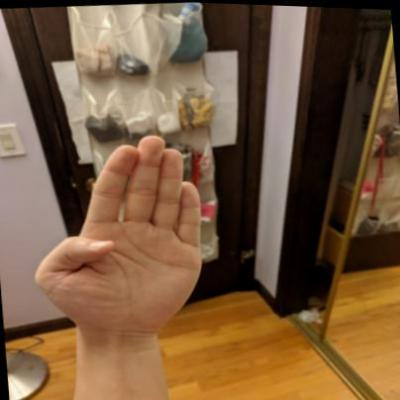hand: (19, 122, 217, 344)
